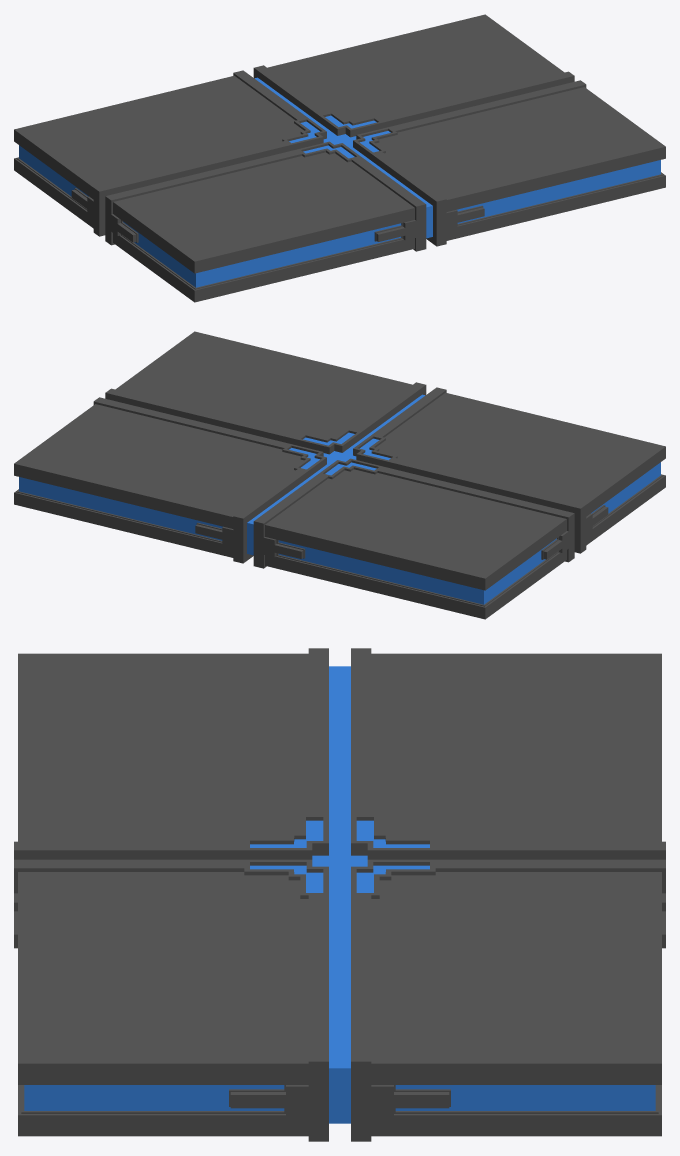
The picture shows the model from 3 angles, top to bottom: view 1: azimuth 30°, elevation 25°; view 2: azimuth 150°, elevation 25°; view 3: azimuth 270°, elevation 25°; orthographic projection. The views are drawn at different scales.
Parts seen in each view (by area): view 1: SM_MovingPlatform4_low; view 2: SM_MovingPlatform4_low; view 3: SM_MovingPlatform4_low.
Boxes of the visible parts, box(x1,y1,x2,y2) form: SM_MovingPlatform4_low: box(14, 14, 665, 302); SM_MovingPlatform4_low: box(14, 331, 665, 619); SM_MovingPlatform4_low: box(14, 648, 665, 1141).
Size of the model in its own units: 607 by 54.87 by 405.
